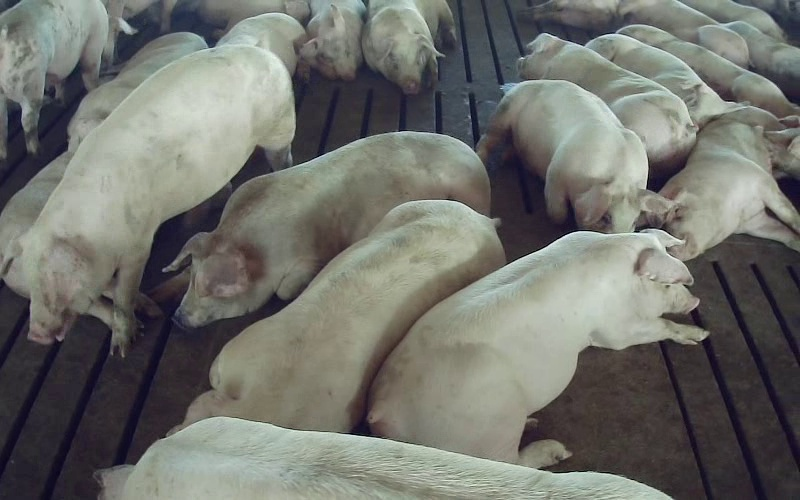pig: (180, 201, 504, 431), (151, 132, 488, 327), (95, 417, 669, 499), (477, 80, 670, 232), (517, 34, 695, 176), (660, 107, 799, 258), (68, 32, 207, 153), (617, 25, 799, 117), (528, 0, 748, 67), (586, 34, 738, 127), (362, 0, 456, 93), (300, 0, 365, 80)
